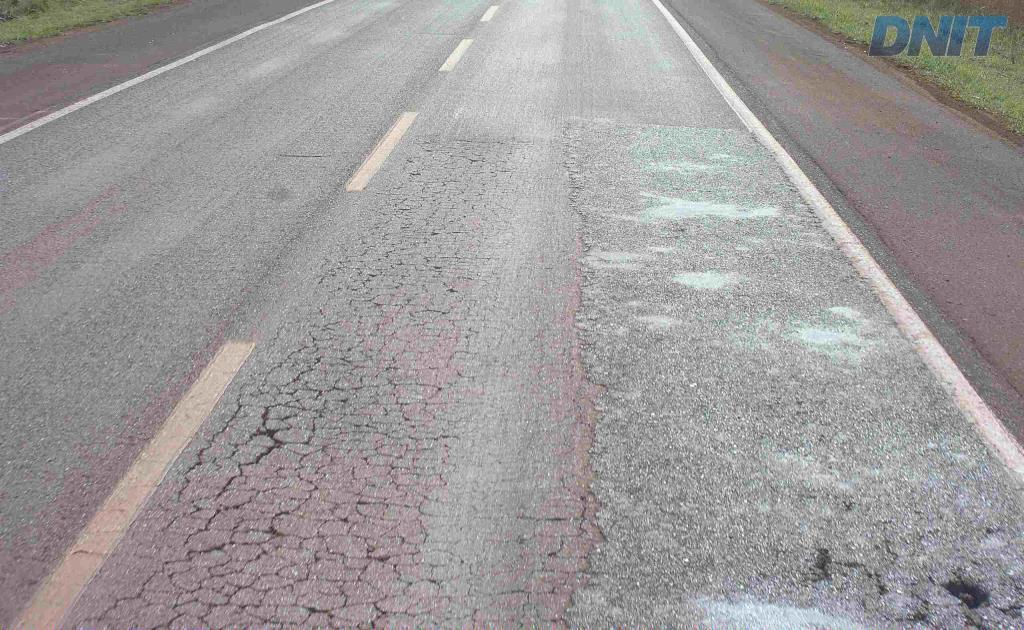crack: (238, 395, 314, 476), (796, 547, 835, 583)
pothole: (933, 569, 998, 615), (804, 543, 846, 582)
